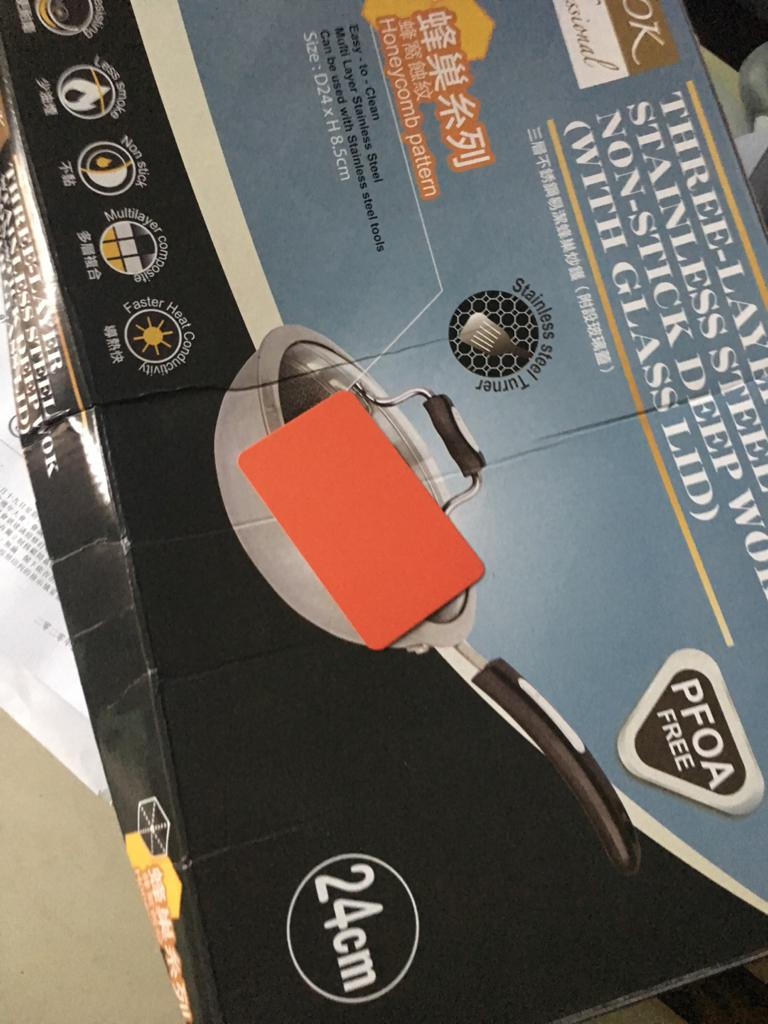red: (230, 379, 503, 668)
